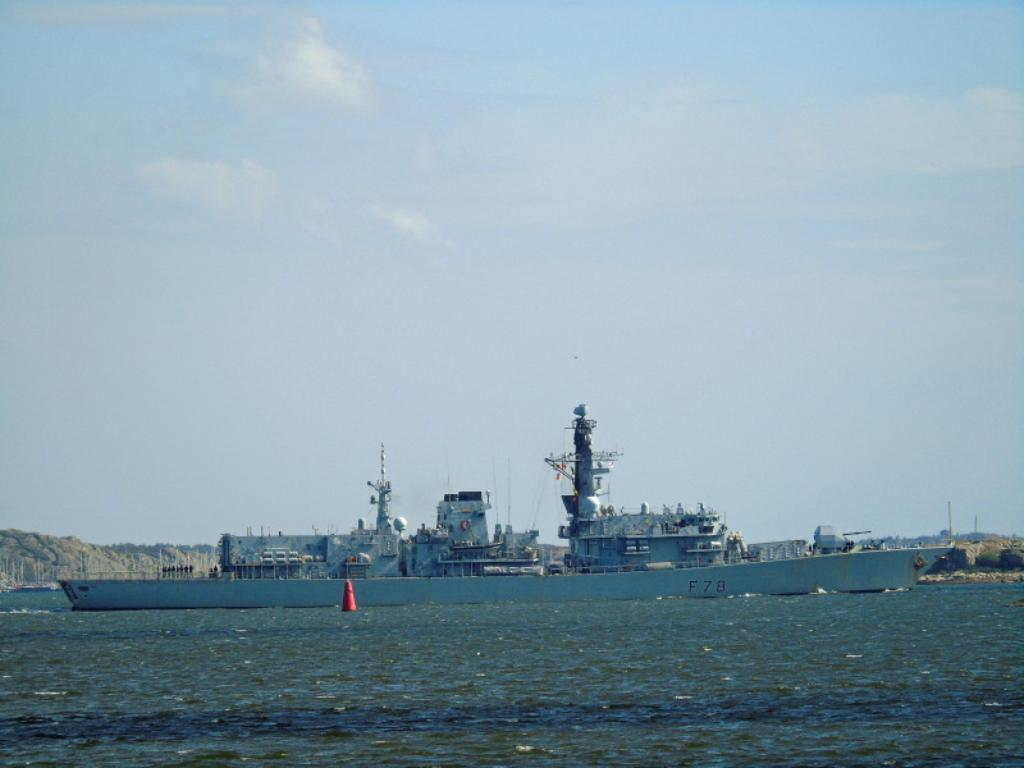Warship: (50, 392, 958, 616)
